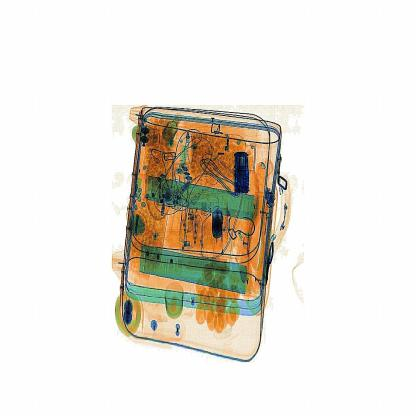scissors: (232, 140, 256, 197)
